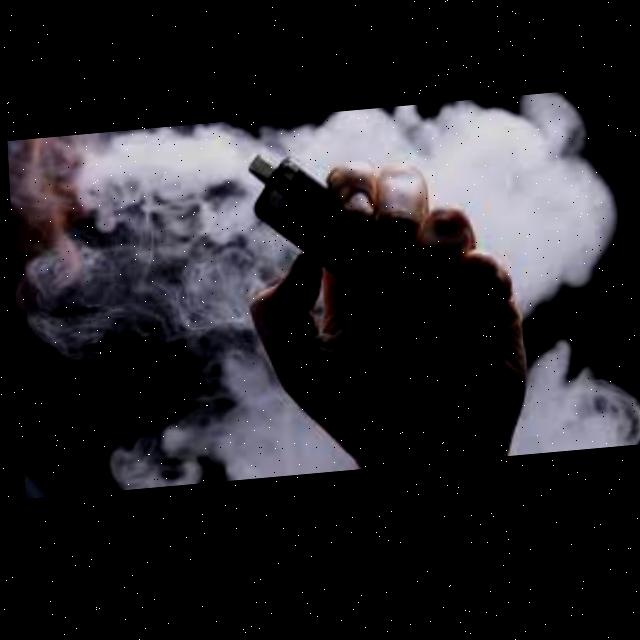vape: (244, 150, 392, 295)
